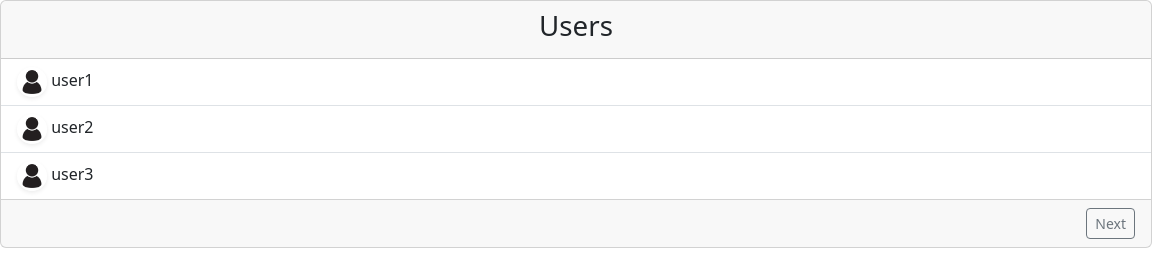
Test: UserList › when user clicks next › when user clicks previous page button › displays prevous page
The image size is (1152, 265).
Expected: the list item "user1" is shown, x1=1 y1=59 x2=1151 y2=106
Click the button "Next" at (1111, 224), box x1=1086 y1=208 x2=1135 y2=239
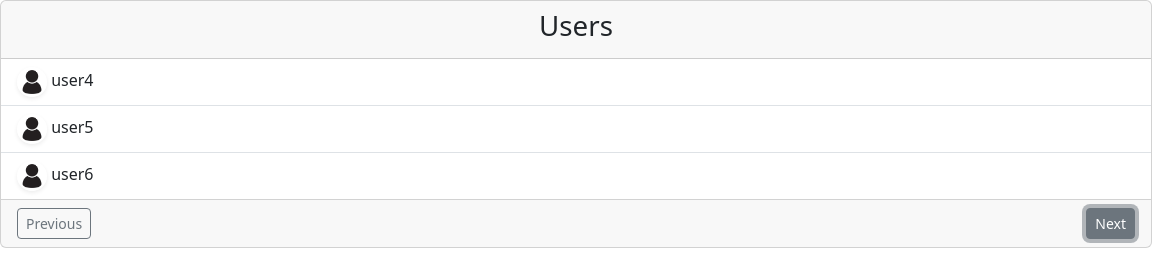
Result: the list item "user4" is shown at x1=1 y1=59 x2=1151 y2=106
Result: the button "Previous" is shown
Click the button "Previous" at (54, 224), box x1=17 y1=208 x2=91 y2=239
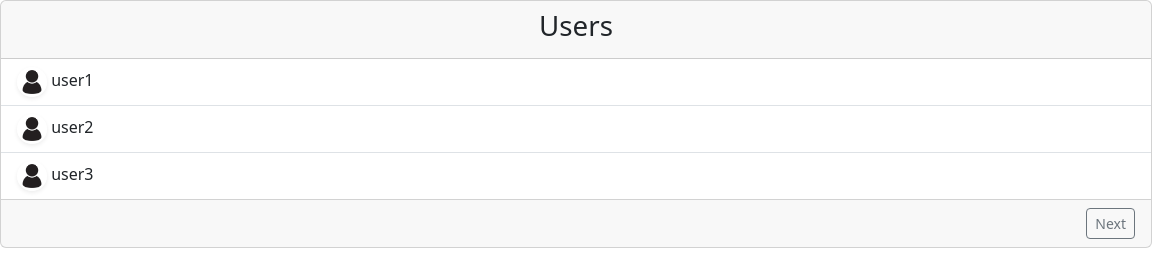
Result: the list item "user1" is shown at x1=1 y1=59 x2=1151 y2=106
